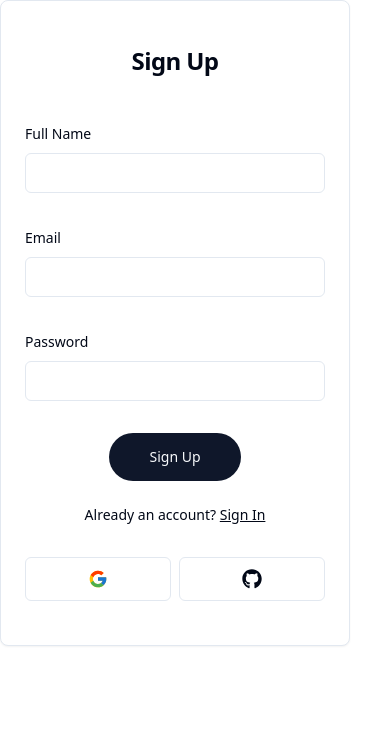
Test: RegisterForm component › should display error message if registration fails
Type "John Doe" into the field labelled "Full Name" at (175, 173), box [25,153,325,193]
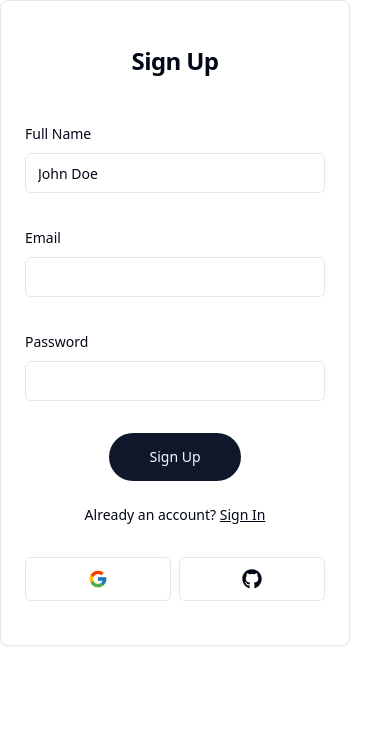
Type "john@example.com" into the field labelled "Email" at (175, 277), box [25,257,325,297]
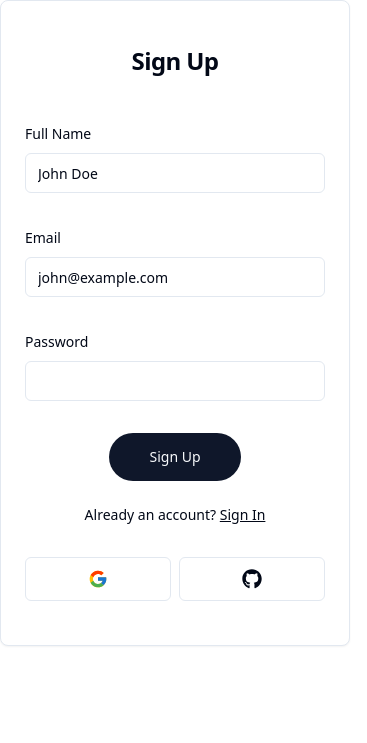
Type "password123" into the password field labelled "Password" at (175, 381), box [25,361,325,401]
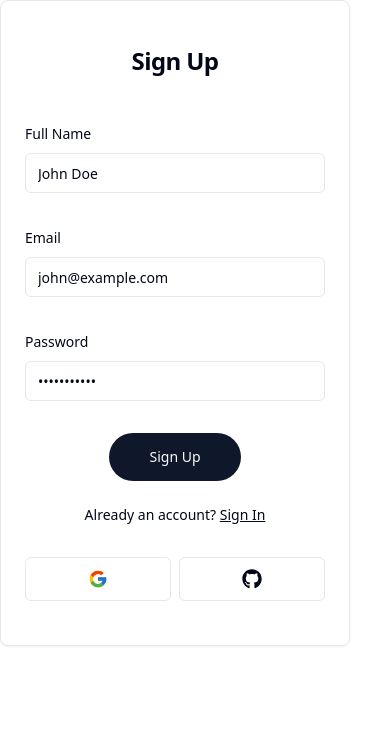
Click the button "Sign Up" at (175, 457), box [110,433,240,481]
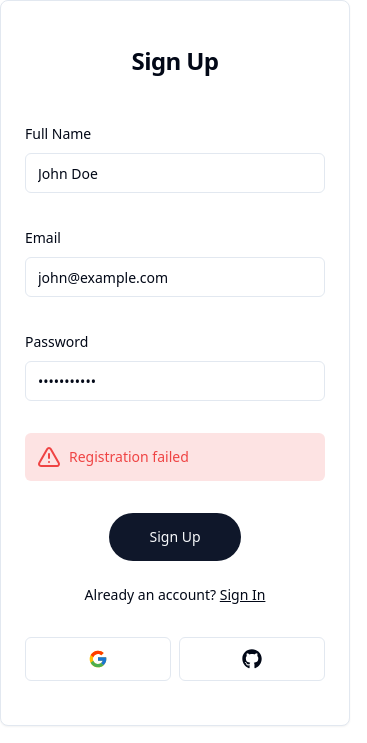
Expected: the text "Registration failed" is shown, [69,447,189,467]
